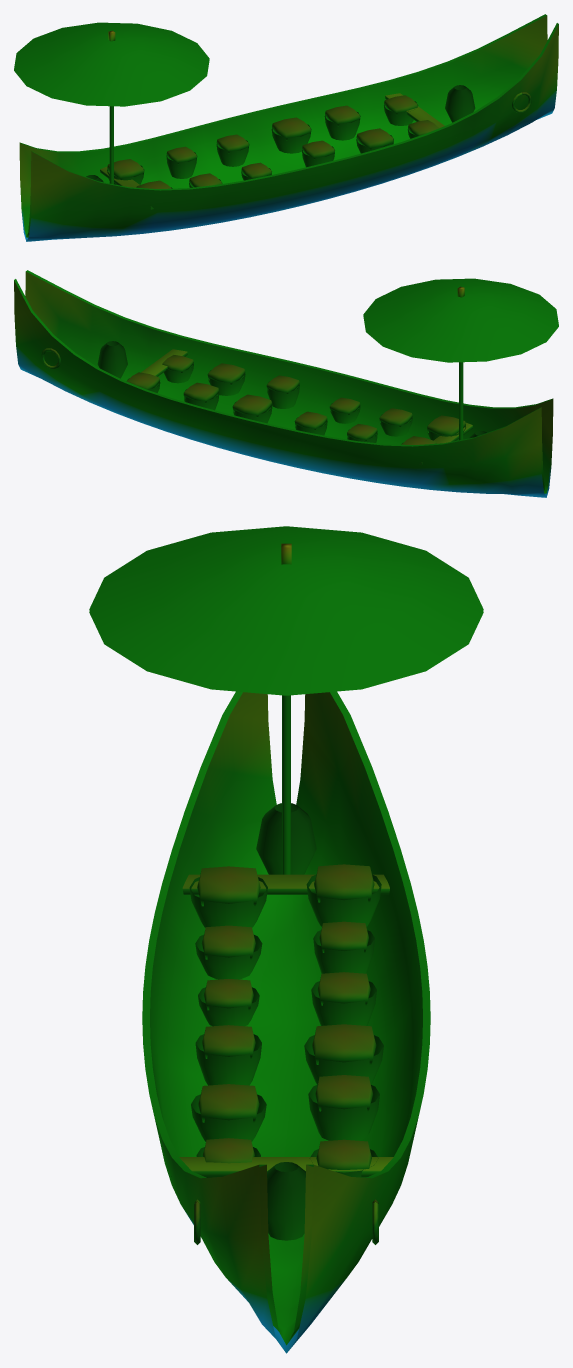
The model's file is market_boat_a.glb.
3 views of the same model, one above another, from view 1: azimuth 30°, elevation 25°; view 2: azimuth 150°, elevation 25°; view 3: azimuth 270°, elevation 25° (orthographic). The views are drawn at different scales.
Visible parts, largest first — view 1: market_boat_a; view 2: market_boat_a; view 3: market_boat_a.
Boxes of the visible parts, x1=… form: market_boat_a: x1=14, y1=14, x2=558, y2=241; market_boat_a: x1=14, y1=270, x2=558, y2=497; market_boat_a: x1=89, y1=526, x2=483, y2=1353.
Size of what is drawn, in the model's own units: 8 by 3.07 by 2.6.
